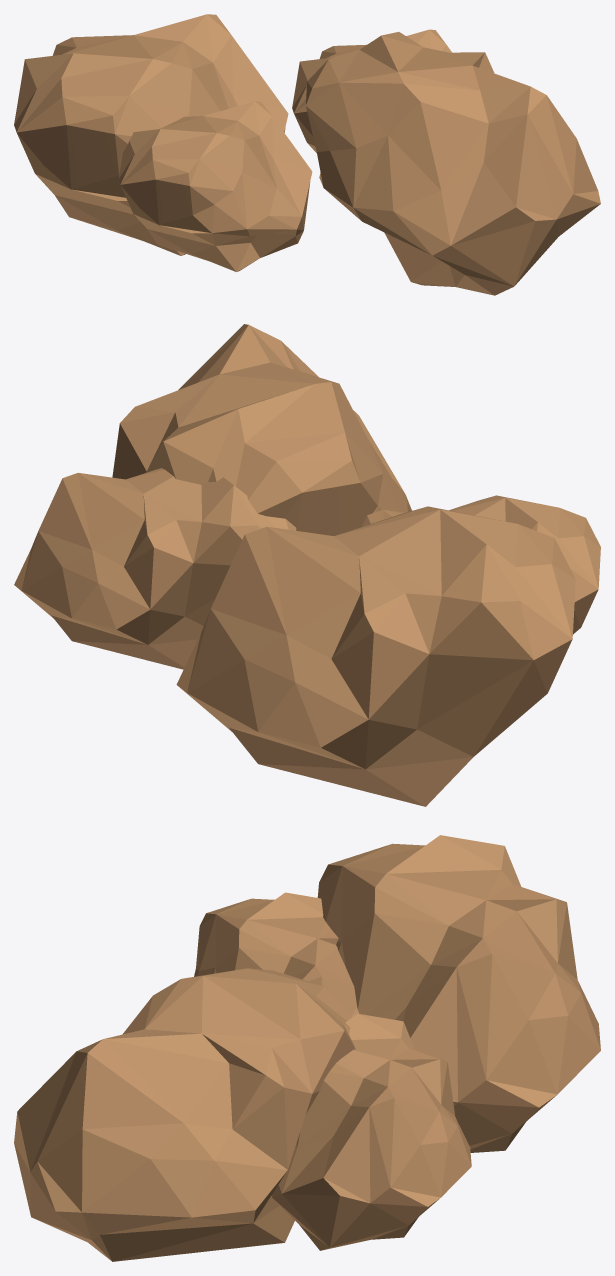
Rendered from Rocks02.fbx.
3 renders of one model, top to bottom at view 1: azimuth 30°, elevation 25°; view 2: azimuth 150°, elevation 25°; view 3: azimuth 270°, elevation 25°, orthographic. The views are drawn at different scales.
Parts seen in each view (by area): view 1: pPlatonic2, pPlatonic3, pPlatonic4, pPlatonic1; view 2: pPlatonic3, pPlatonic2, pPlatonic1, pPlatonic4; view 3: pPlatonic2, pPlatonic3, pPlatonic1, pPlatonic4.
Boxes of the visible parts, x1=… form: pPlatonic2: x1=306, y1=32, x2=600, y2=295; pPlatonic3: x1=14, y1=14, x2=288, y2=255; pPlatonic4: x1=118, y1=101, x2=312, y2=271; pPlatonic1: x1=292, y1=29, x2=451, y2=153; pPlatonic3: x1=176, y1=506, x2=575, y2=806; pPlatonic2: x1=112, y1=324, x2=411, y2=535; pPlatonic1: x1=14, y1=468, x2=296, y2=669; pPlatonic4: x1=362, y1=495, x2=600, y2=634; pPlatonic2: x1=14, y1=968, x2=355, y2=1261; pPlatonic3: x1=317, y1=835, x2=600, y2=1152; pPlatonic1: x1=271, y1=1013, x2=471, y2=1250; pPlatonic4: x1=194, y1=892, x2=359, y2=1016.
Bounding box in the file's own units: 1281 × 1390 × 608.
